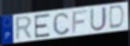C: (52, 11, 71, 36)
D: (108, 4, 126, 30)
E: (34, 13, 52, 40)
F: (71, 9, 89, 34)
R: (15, 15, 34, 42)
U: (90, 6, 108, 32)
